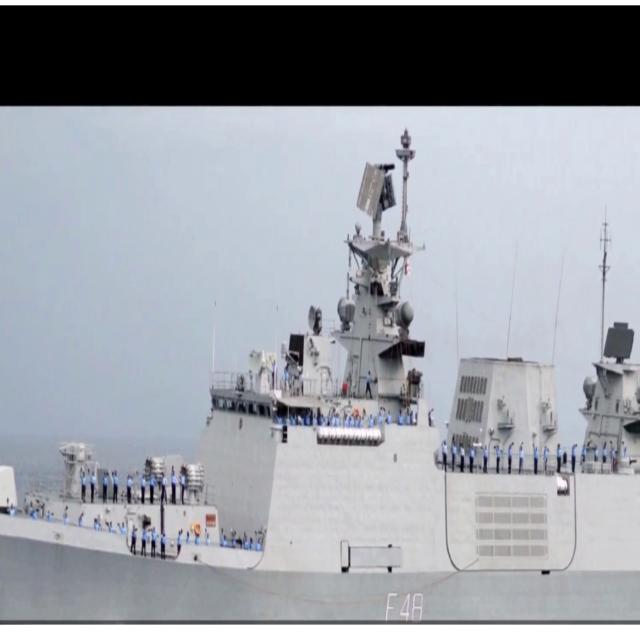OCR: (375, 585, 428, 622)
